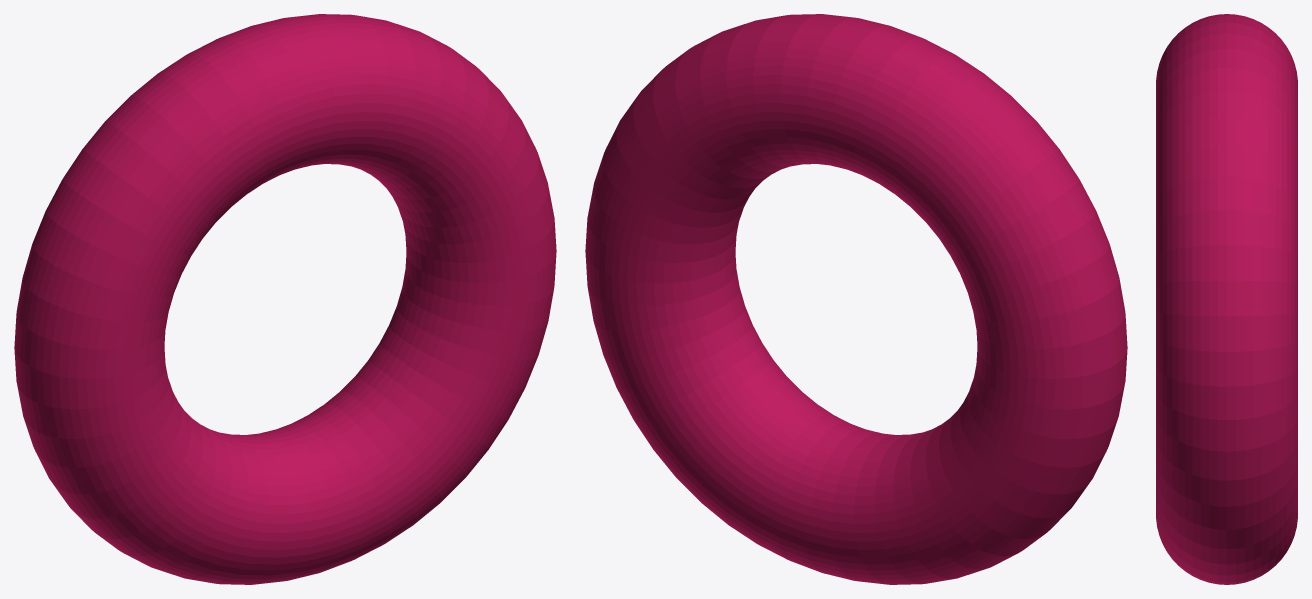
The picture shows the model from 3 angles, left to right: view 1: azimuth 30°, elevation 25°; view 2: azimuth 150°, elevation 25°; view 3: azimuth 270°, elevation 25°; orthographic projection. The views are drawn at different scales.
Visible parts, largest first — view 1: world; view 2: world; view 3: world.
Part boxes in pixels (left/top/right/bottom): world: left=14, top=14, right=556, bottom=584; world: left=585, top=14, right=1127, bottom=584; world: left=1156, top=14, right=1297, bottom=584.
Bounding box in the file's own units: 33.73 × 33.67 × 8.38.
